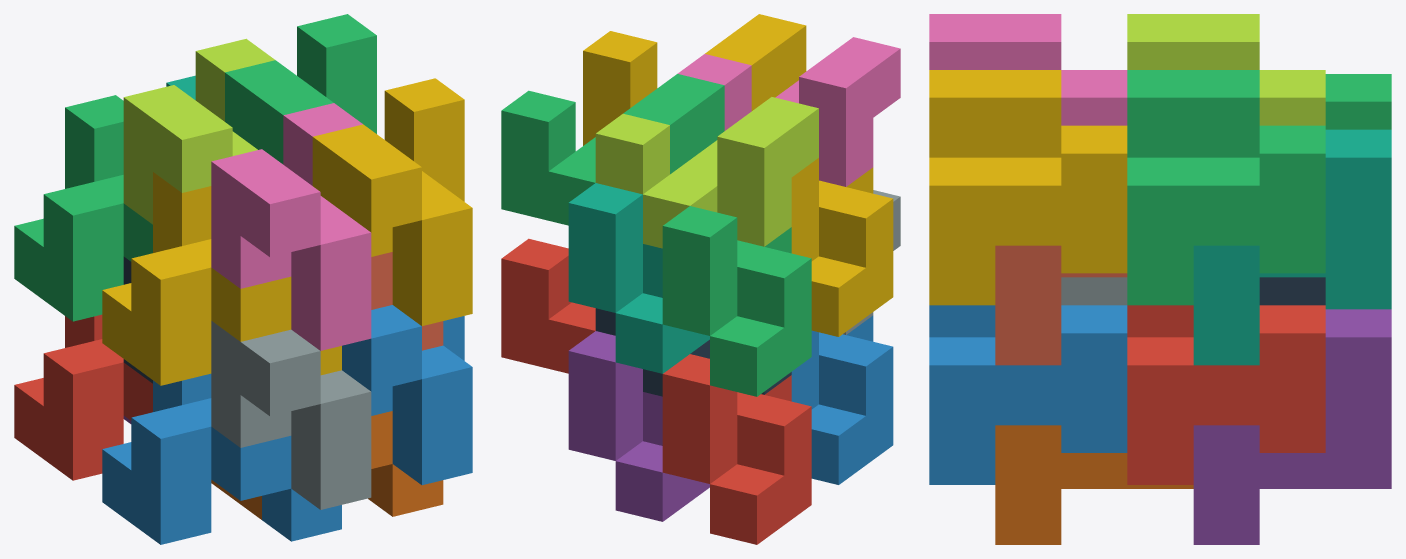
Rendered from tiling.obj.
3 views of the same model, side by side, from view 1: azimuth 30°, elevation 25°; view 2: azimuth 150°, elevation 25°; view 3: azimuth 270°, elevation 25° (orthographic). The views are drawn at different scales.
Visible parts, largest first — view 1: copy_2_domain_8, copy_2_domain_4, copy_1_domain_2, copy_1_domain_4, copy_2_domain_2, copy_1_domain_3, copy_2_domain_6, copy_1_domain_1, copy_2_domain_3, copy_2_domain_7, copy_1_domain_6, copy_1_domain_8; view 2: copy_1_domain_3, copy_1_domain_1, copy_2_domain_3, copy_2_domain_7, copy_1_domain_7, copy_1_domain_5, copy_1_domain_4, copy_2_domain_4, copy_1_domain_2, copy_2_domain_8, copy_2_domain_5, copy_2_domain_1 (+1 smaller); view 3: copy_2_domain_7, copy_2_domain_8, copy_2_domain_5, copy_2_domain_6, copy_1_domain_5, copy_1_domain_7, copy_2_domain_3, copy_2_domain_4, copy_1_domain_6, copy_1_domain_8, copy_1_domain_3, copy_2_domain_1 (+1 smaller).
Boxes of the visible parts, box(x1,y1,x2,y2) form: copy_2_domain_8: box(312, 78, 472, 325); copy_2_domain_4: box(211, 103, 371, 350); copy_1_domain_2: box(102, 373, 341, 544); copy_1_domain_4: box(102, 172, 341, 385); copy_2_domain_2: box(211, 321, 371, 509); copy_1_domain_3: box(14, 95, 152, 321); copy_2_domain_6: box(342, 305, 472, 485); copy_1_domain_1: box(14, 314, 152, 480); copy_2_domain_3: box(123, 38, 275, 224); copy_2_domain_7: box(225, 14, 376, 164); copy_1_domain_6: box(211, 411, 443, 519); copy_1_domain_8: box(371, 252, 443, 350); copy_1_domain_3: box(662, 206, 811, 396); copy_1_domain_1: box(662, 354, 811, 544); copy_2_domain_3: box(595, 97, 818, 248); copy_2_domain_7: box(501, 74, 724, 225); copy_1_domain_7: box(568, 183, 709, 373); copy_1_domain_5: box(568, 331, 709, 521); copy_1_domain_4: box(791, 158, 893, 336); copy_2_domain_4: box(677, 37, 900, 186); copy_1_domain_2: box(791, 315, 893, 484); copy_2_domain_8: box(583, 14, 806, 145); copy_2_domain_5: box(501, 238, 595, 373); copy_2_domain_1: box(595, 308, 791, 396); copy_2_domain_7: box(1127, 70, 1325, 305); copy_2_domain_8: box(929, 70, 1127, 305); copy_2_domain_5: box(1127, 305, 1325, 484); copy_2_domain_6: box(929, 305, 1127, 484); copy_1_domain_5: box(1193, 309, 1391, 544); copy_1_domain_7: box(1193, 129, 1391, 365); copy_2_domain_3: box(1127, 14, 1325, 125); copy_2_domain_4: box(929, 14, 1127, 125); copy_1_domain_6: box(995, 425, 1193, 544); copy_1_domain_8: box(995, 245, 1127, 365); copy_1_domain_3: box(1325, 74, 1391, 129); copy_2_domain_1: box(1259, 277, 1325, 305).
Bounding box in the file's own units: 6 × 7 × 7.
